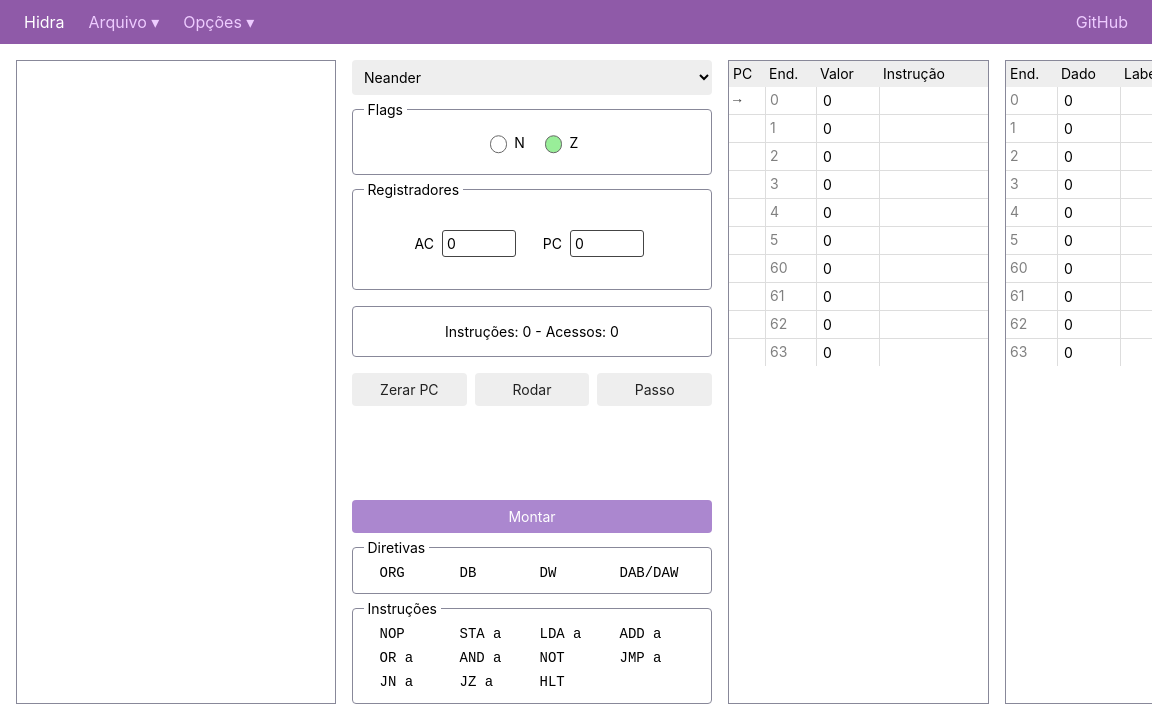
App: Machine Area › flags / registers / counters: should show the updated value
Expected: the checkbox labelled "N" is not checked, x1=490 y1=135 x2=507 y2=153
Expected: the checkbox labelled "Z" is checked, x1=545 y1=135 x2=562 y2=153
Click the button with test id "build-button" at [532, 516], box x1=352 y1=500 x2=712 y2=533
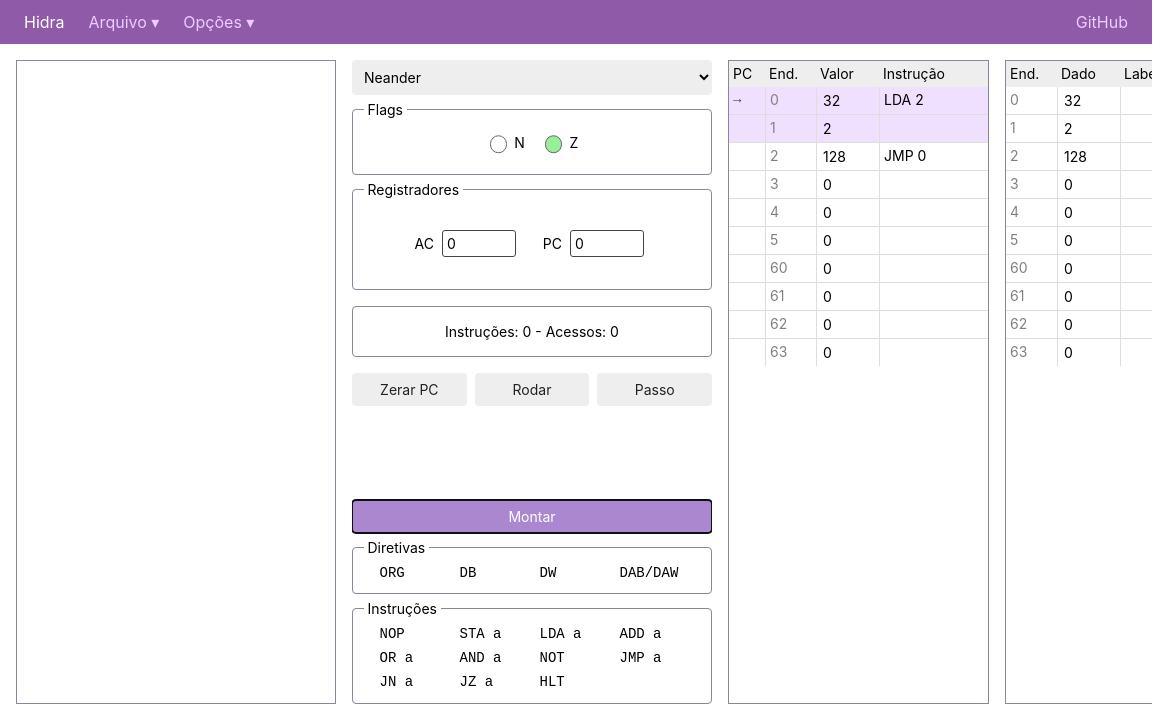
Click the button with test id "step-button" at [655, 389], box x1=597 y1=372 x2=712 y2=406
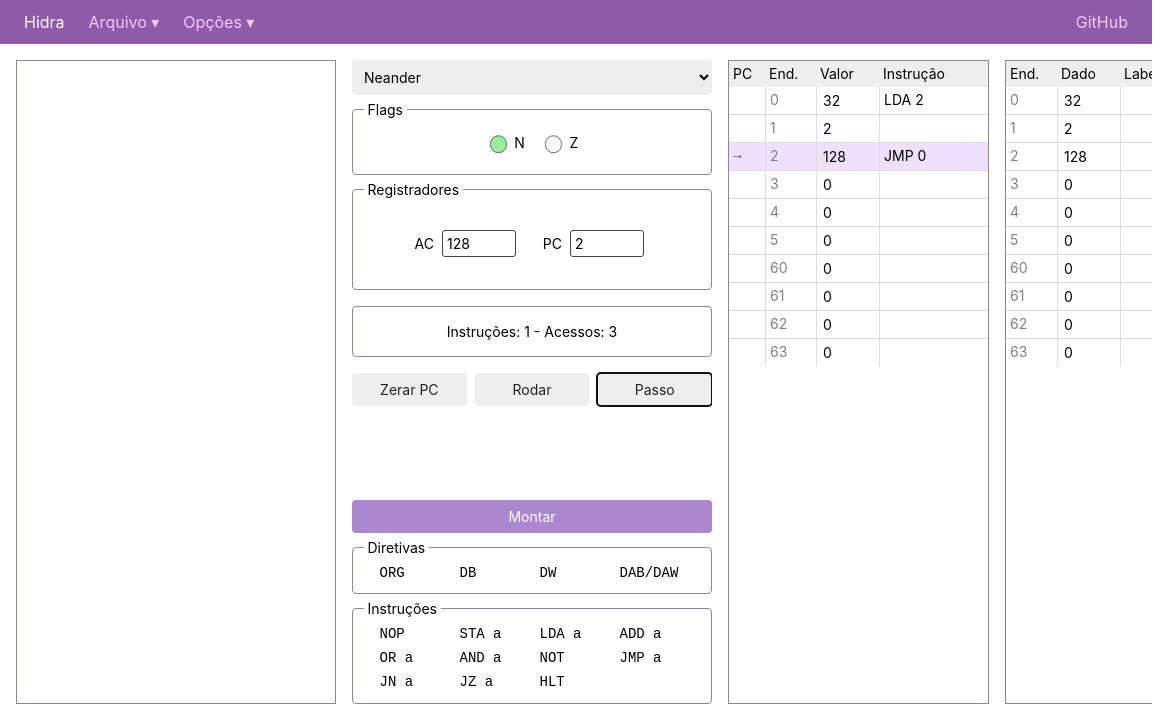
Expected: the checkbox labelled "N" is checked, x1=490 y1=135 x2=507 y2=153
Expected: the checkbox labelled "Z" is not checked, x1=545 y1=135 x2=562 y2=153
Expected: the field labelled "AC" holds "128", x1=442 y1=230 x2=516 y2=256
